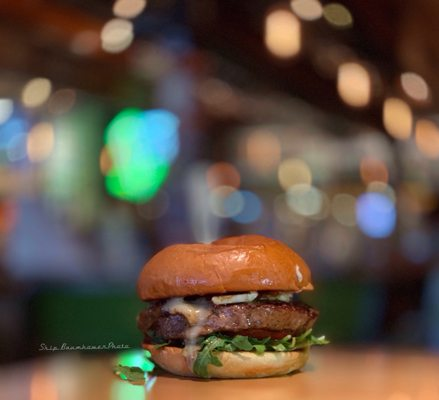soup: (135, 233, 322, 380)
